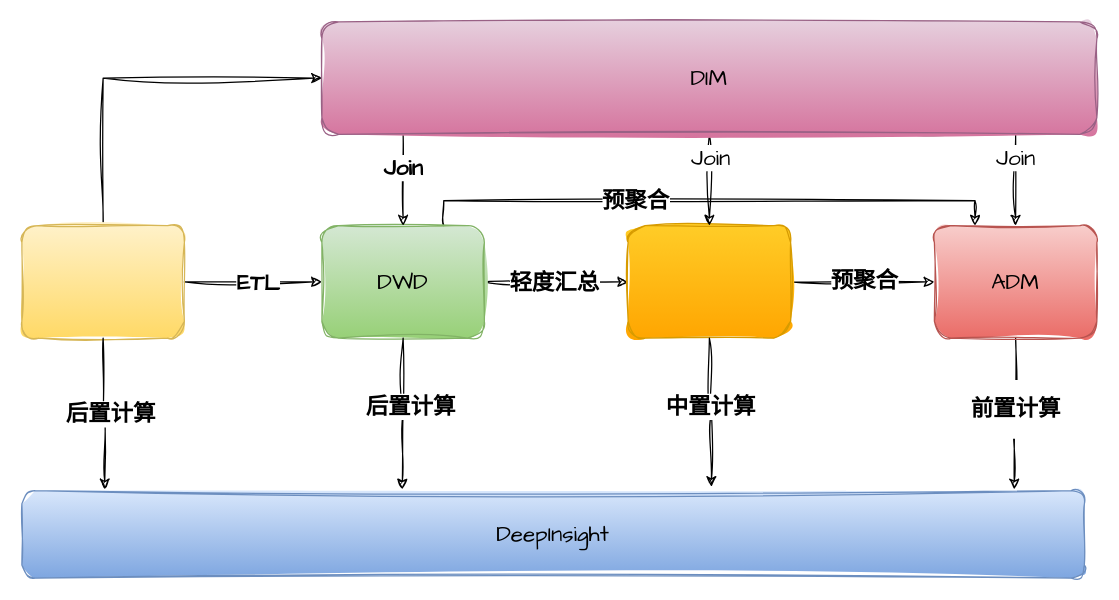
Image size: 1119x600. Some labels were removed from this diagram. Here are the shapes that lost their labels. From the top down, the centre of each, then its label:
the point at 102,281: ODS
the point at 709,281: DWS
